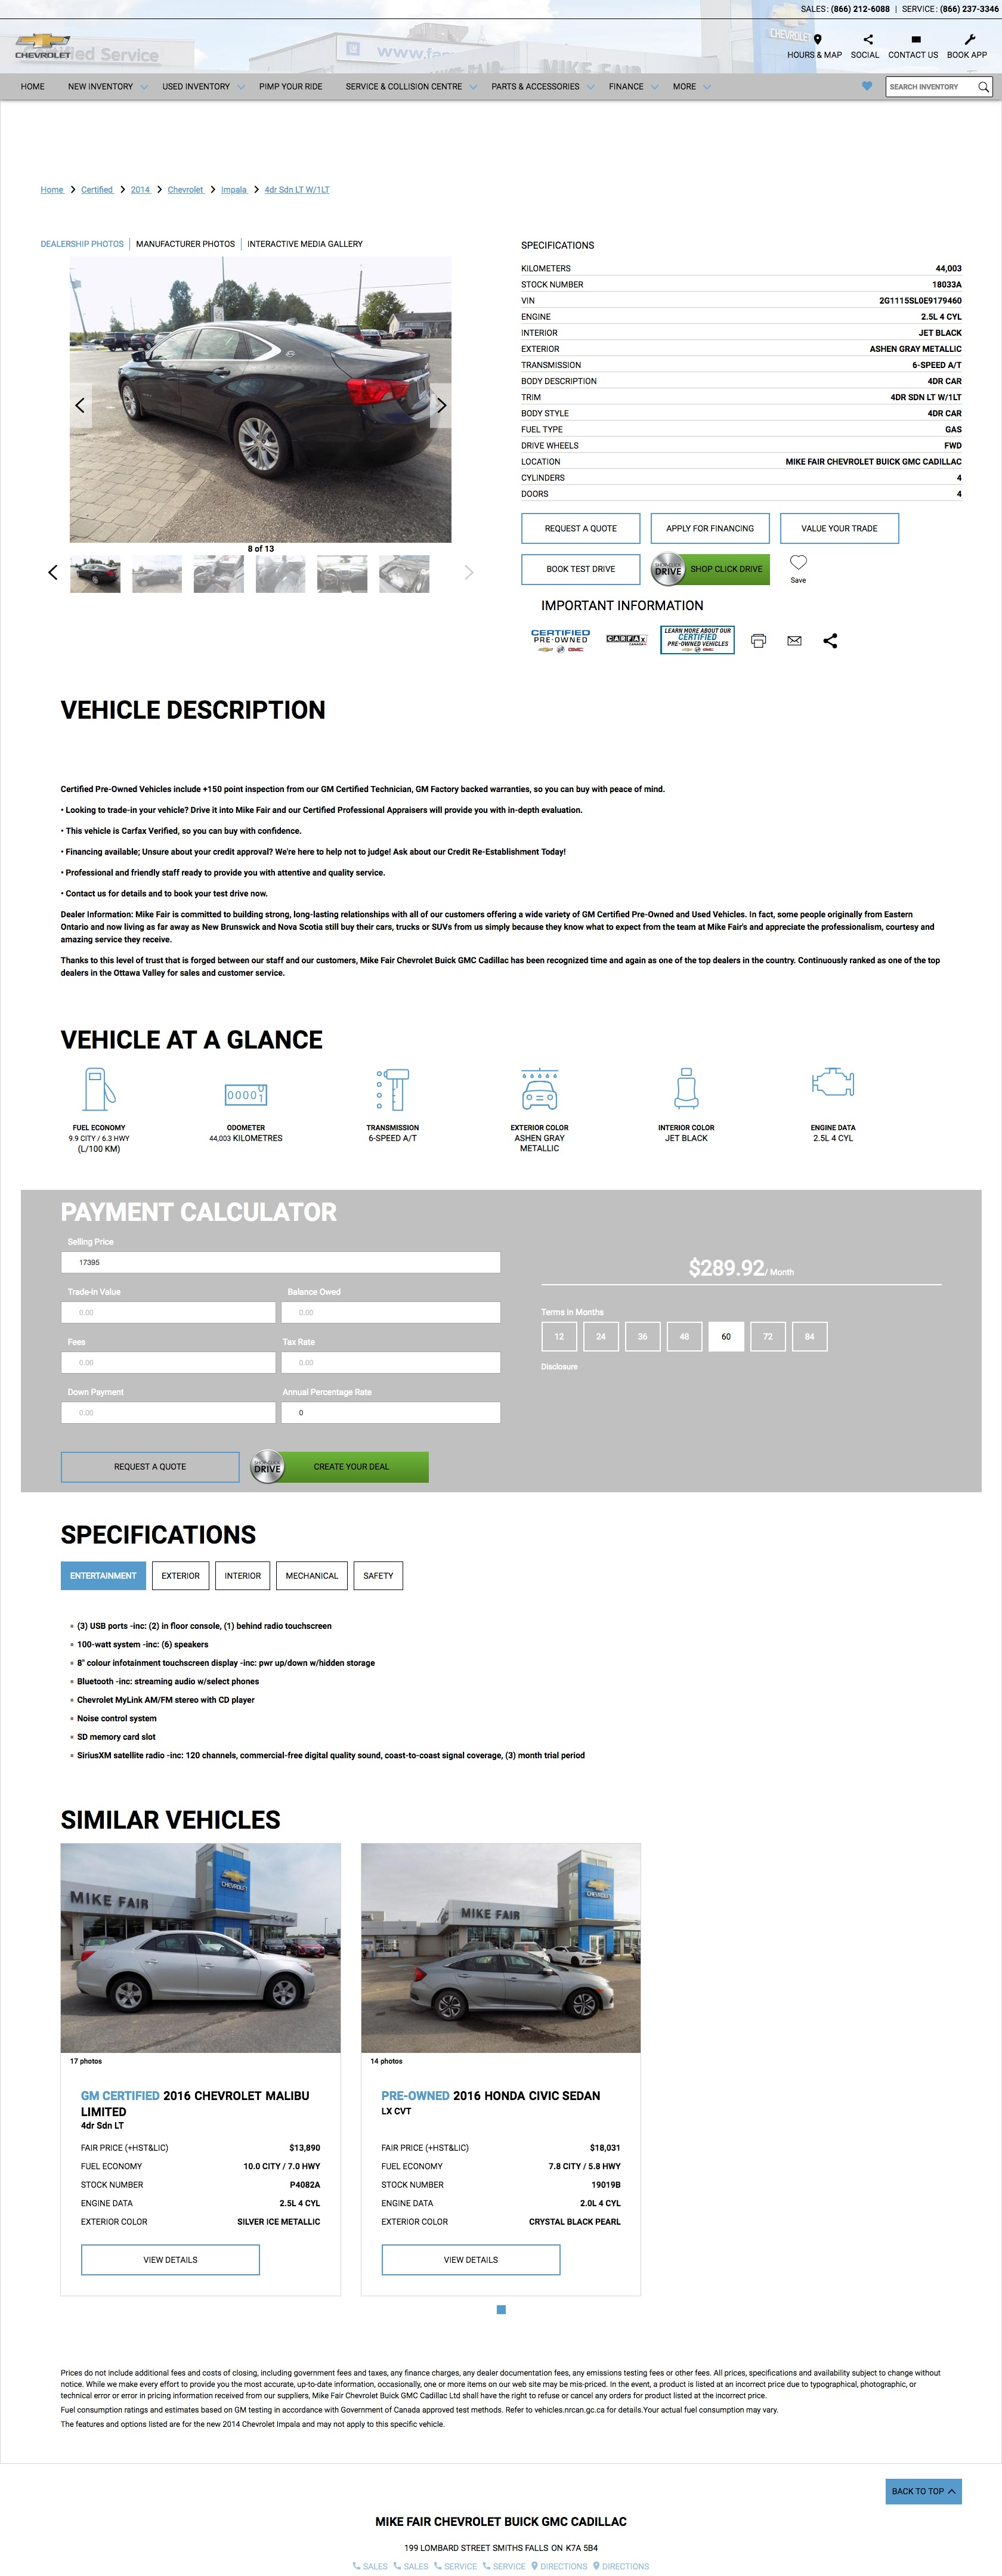car: (465, 565, 475, 582)
